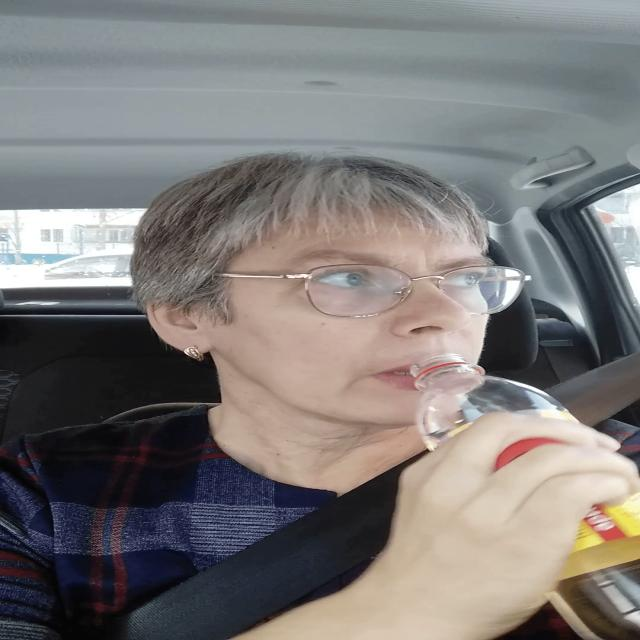3: (153, 352, 640, 640)
Seatbelt: (429, 346, 640, 634)
